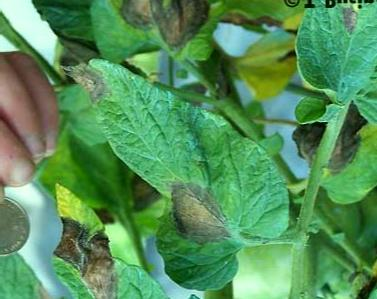Tomato leaf late blight: (55, 52, 303, 294), (38, 180, 228, 299), (283, 0, 377, 130)
